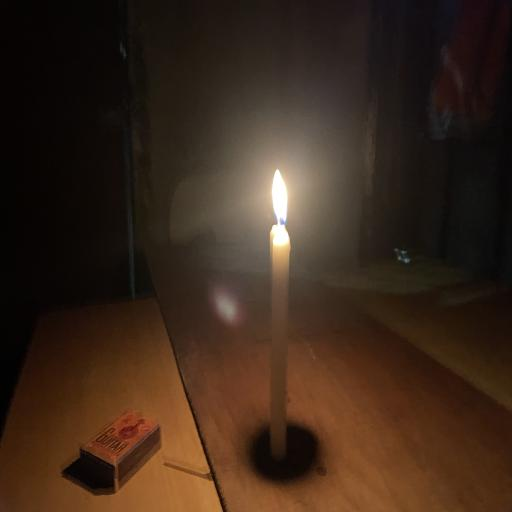fire: (243, 145, 322, 250)
